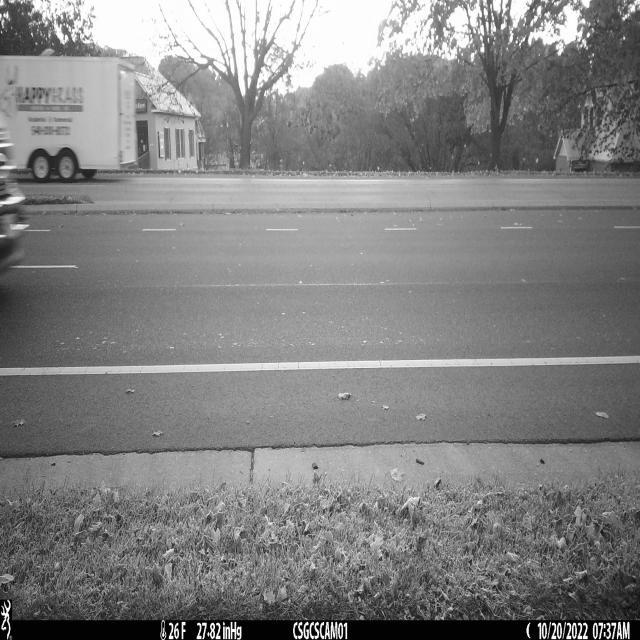Trailer: (0, 47, 137, 180)
